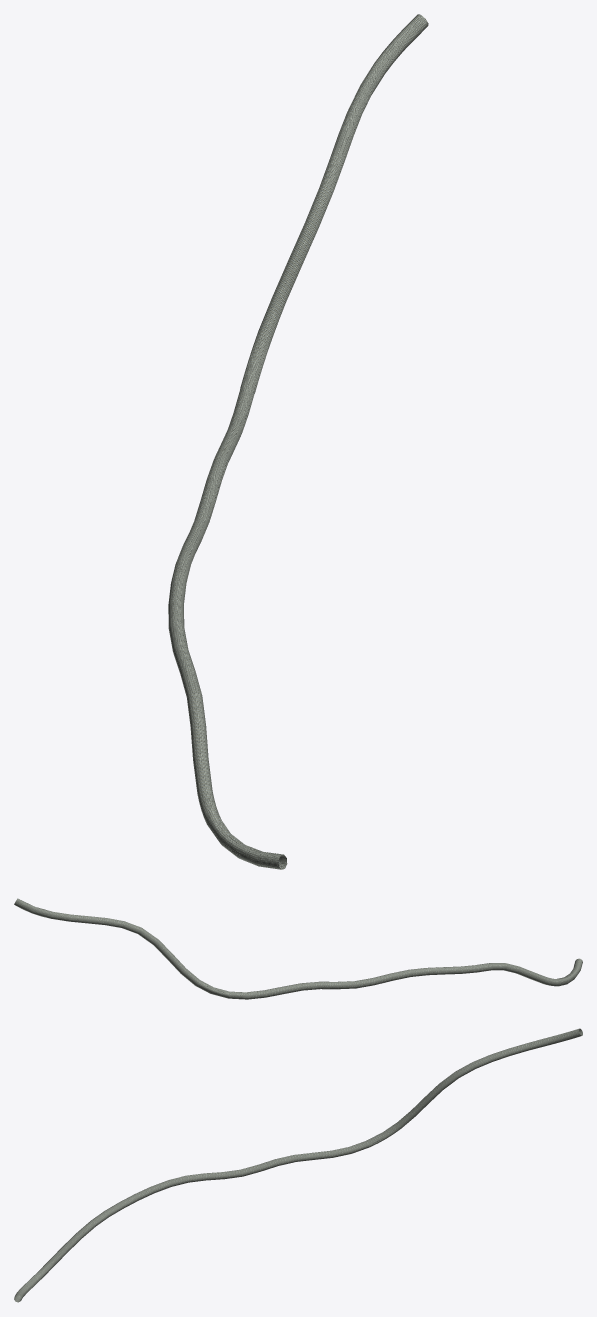
File: microtubule8.fbx
3 renders of one model, top to bottom at view 1: azimuth 30°, elevation 25°; view 2: azimuth 150°, elevation 25°; view 3: azimuth 330°, elevation 25°, orthographic. The views are drawn at different scales.
Parts seen in each view (by area): view 1: microtubule8; view 2: microtubule8; view 3: microtubule8.
Boxes of the visible parts, x1,y1,x2,y2 form: microtubule8: (168,14,428,869); microtubule8: (14,898,582,999); microtubule8: (14,1028,582,1302).
Bounding box in the file's own units: 7263 × 3647 × 9535.
Materials: 1 (1 with a texture image).
